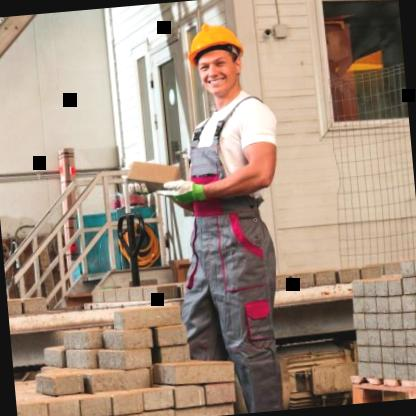helmet: (178, 14, 252, 108)
